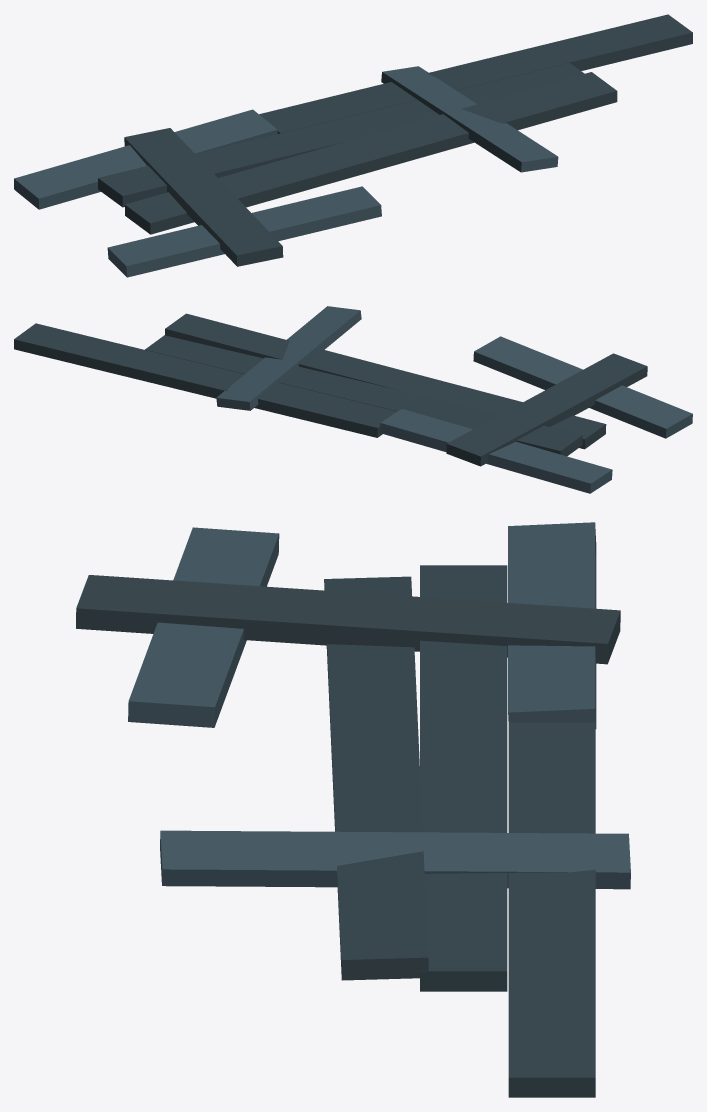
File: Ship_048.glb
3 renders of one model, top to bottom at view 1: azimuth 30°, elevation 25°; view 2: azimuth 150°, elevation 25°; view 3: azimuth 270°, elevation 25°, orthographic. The views are drawn at different scales.
Visible parts, largest first — view 1: Ship_048; view 2: Ship_048; view 3: Ship_048.
Part boxes in pixels (bbox=[...]): Ship_048: bbox=[14, 14, 692, 277]; Ship_048: bbox=[14, 306, 692, 493]; Ship_048: bbox=[76, 522, 630, 1097].
Bounding box in the file's own units: 5.32 × 0.2238 × 2.21.
1 material, 1 textured.
